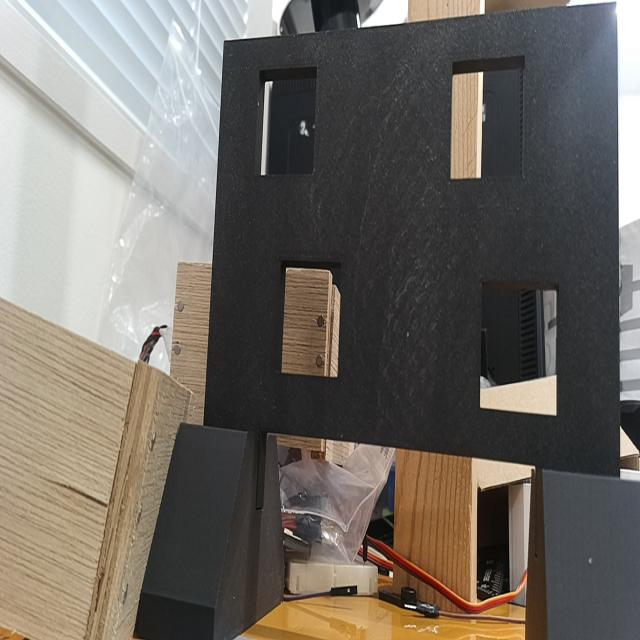Obstacle: (480, 278, 559, 416), (449, 57, 524, 182), (278, 261, 341, 379), (256, 65, 317, 176)
Wall: (205, 5, 618, 475)
